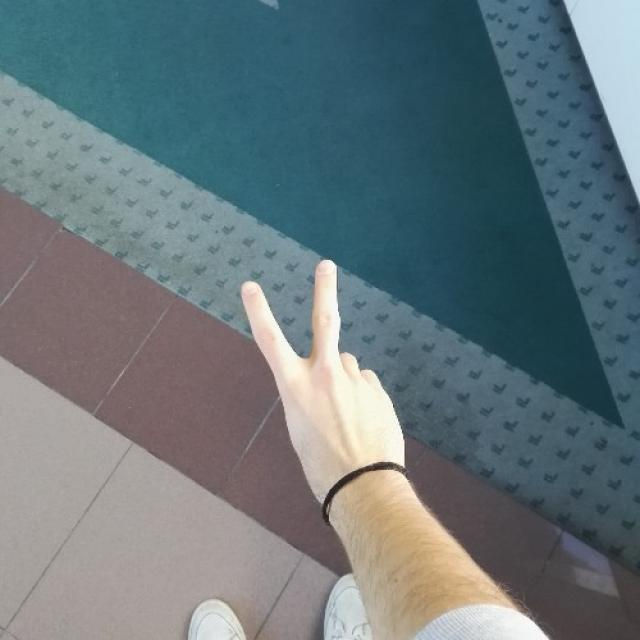scissors: (246, 256, 404, 464)
